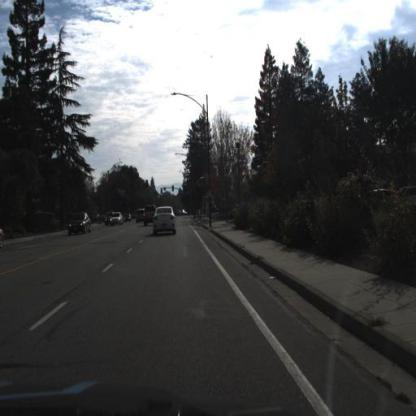car: (153, 206, 177, 236), (67, 210, 93, 236), (143, 204, 157, 227), (110, 211, 124, 228), (137, 206, 147, 227), (113, 212, 125, 227)
